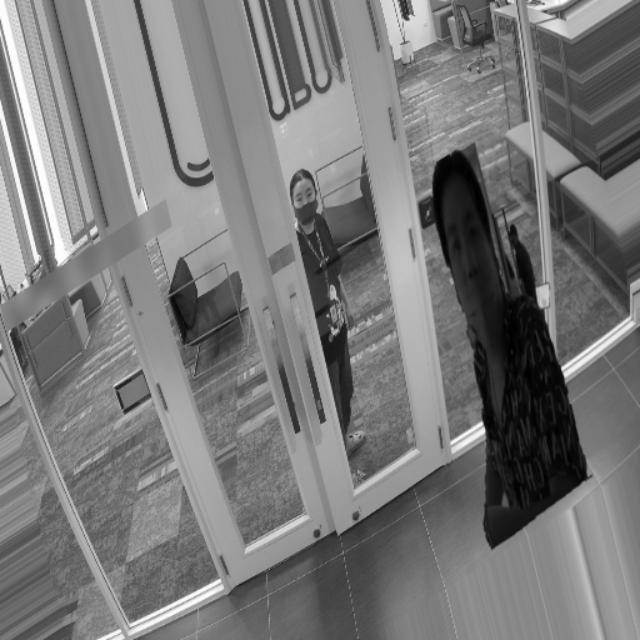hairnet: (444, 205, 502, 352)
